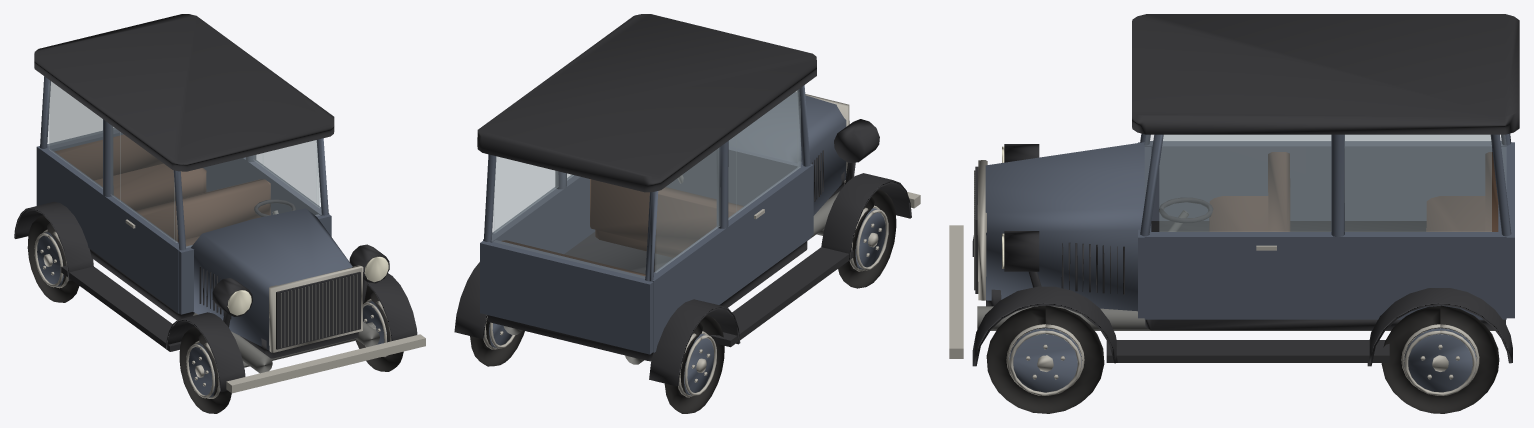
Rendered from limousine.glb.
3 views of the same model, side by side, from view 1: azimuth 30°, elevation 25°; view 2: azimuth 150°, elevation 25°; view 3: azimuth 270°, elevation 25° (orthographic). The views are drawn at different scales.
Visible parts, largest first — view 1: Modell, Tuer_R, Tuer_L, Vorn_R, Hinten_R, Vorn_L; view 2: Modell, Tuer_R, Vorn_R, Hinten_R, Hinten_L, Tuer_L; view 3: Modell, Tuer_L, Vorn_L, Hinten_L, Tuer_R.
Part boxes in pixels (x1,y1,x2,y2): Modell: [14, 14, 425, 393]; Tuer_R: [116, 132, 177, 307]; Tuer_L: [259, 140, 320, 215]; Vorn_R: [179, 326, 231, 413]; Hinten_R: [27, 215, 79, 302]; Vorn_L: [356, 285, 403, 371]; Modell: [454, 14, 920, 386]; Tuer_R: [733, 90, 802, 288]; Vorn_R: [838, 189, 896, 288]; Hinten_R: [664, 314, 724, 413]; Hinten_L: [470, 316, 524, 366]; Tuer_L: [571, 175, 595, 242]; Modell: [949, 14, 1519, 366]; Tuer_L: [1165, 135, 1305, 319]; Vorn_L: [986, 305, 1104, 413]; Hinten_L: [1381, 305, 1499, 413]; Tuer_R: [1165, 135, 1305, 220].
Bounding box in the file's own units: 1.43 × 1.56 × 2.76.
